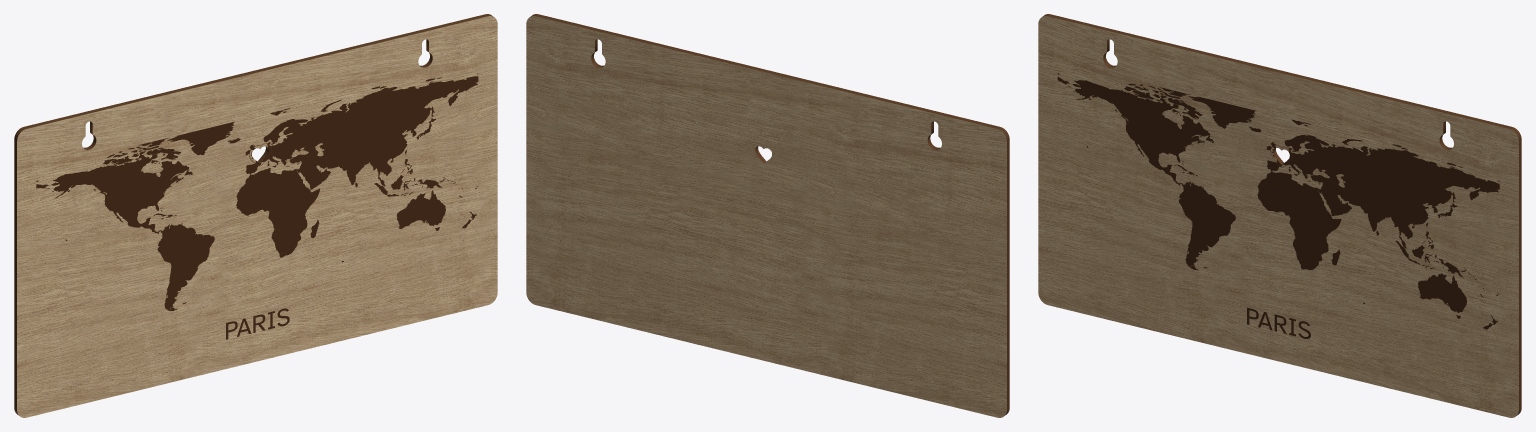
File: world-map.glb
3 views of the same model, side by side, from view 1: azimuth 30°, elevation 25°; view 2: azimuth 150°, elevation 25°; view 3: azimuth 330°, elevation 25° (orthographic).
Parts seen in each view (by area): view 1: body0, engrave0; view 2: body0; view 3: body0, engrave0.
Boxes of the visible parts, <box> form: body0: <box>14,14,497,417</box>; engrave0: <box>36,73,478,339</box>; body0: <box>526,14,1009,417</box>; body0: <box>1038,14,1521,417</box>; engrave0: <box>1057,73,1499,338</box>.
Size of the model in its own units: 0.3 by 0.1723 by 0.00312.
Materials: 4 (1 with a texture image).
